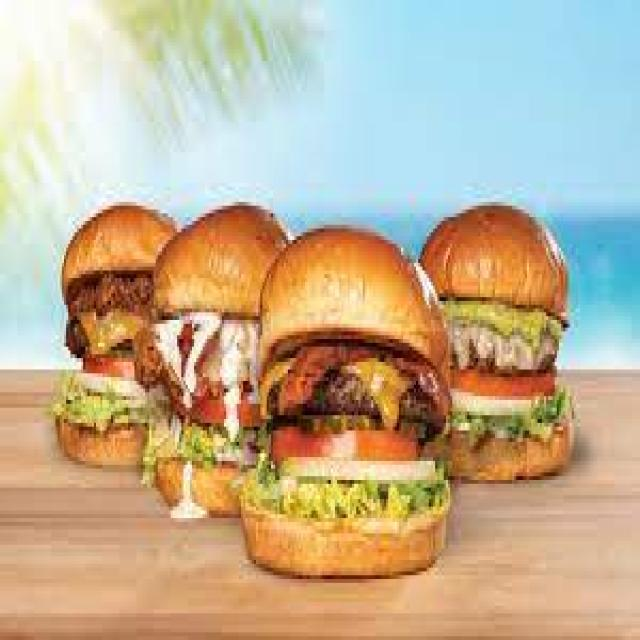Burger: (80, 206, 587, 580)
